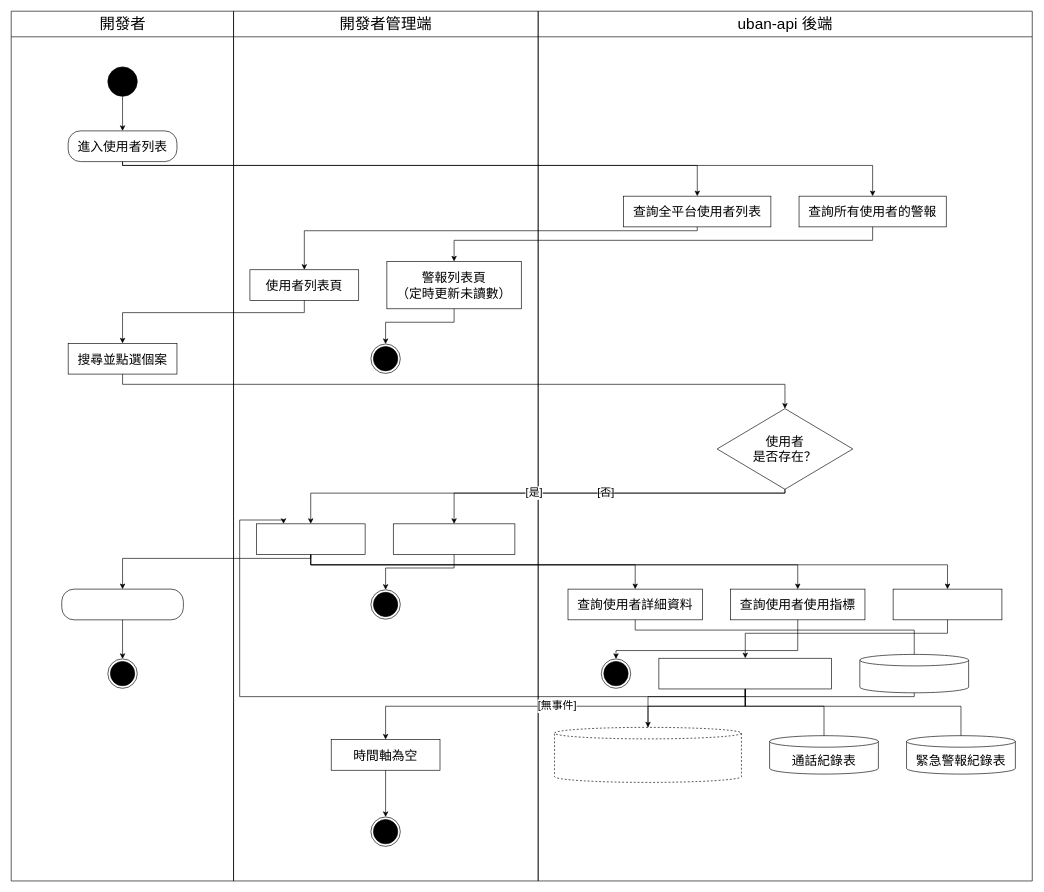
The diagram is 1044 pixels wide and 892 high, and some of its shapes have lost their labels. Here are the shapes that lost their labels. From the top down, the centre of each, then its label:
the point at 310,539: 使用者詳情頁
the point at 454,539: 顯示『查無資料』
the point at 122,604: 對照時序排除問題
the point at 947,604: 查詢活動時間軸
the point at 745,673: 彙整活動紀錄、通話、警報
the point at 914,673: 長輩資料表
the point at 647,754: 活動紀錄表 ★ 需經長輩資料表對應使用者
